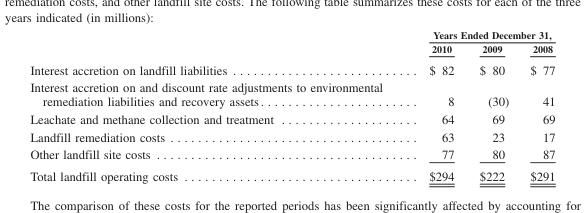table: (29, 28, 554, 182)
table column: (29, 28, 405, 182), (405, 28, 466, 182), (466, 28, 518, 182), (518, 28, 554, 182)
table column header: (29, 28, 554, 58)
table row: (29, 78, 554, 109), (29, 58, 554, 78), (29, 145, 554, 164), (29, 109, 554, 127), (29, 127, 554, 145), (29, 164, 554, 182), (29, 41, 554, 58), (29, 28, 554, 41)
table spanning cell: (405, 28, 554, 41)
